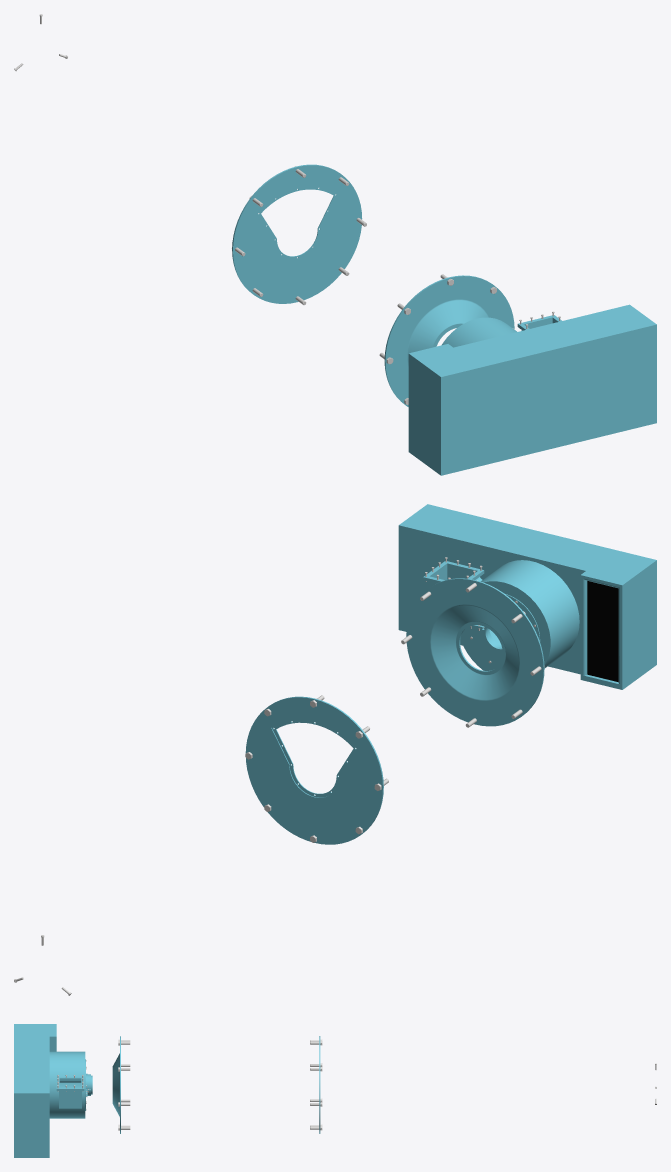
3 renders of one model, top to bottom at view 1: azimuth 30°, elevation 25°; view 2: azimuth 150°, elevation 25°; view 3: azimuth 270°, elevation 25°, orthographic. The views are drawn at different scales.
Visible parts, largest first — view 1: assembly full_cover belakang motor, assembly full_cover motor_MIR.001, assembly full_cover motor belakang.001; view 2: assembly full_cover belakang motor, assembly full_cover motor belakang.001, assembly full_cover motor_MIR.001, assembly full_tutup cover belakang_1; view 3: assembly full_cover belakang motor, assembly full_cover motor belakang.001.
Boxes of the visible parts, x1,y1,x2,y2 form: assembly full_cover belakang motor: (408, 304, 656, 475); assembly full_cover motor_MIR.001: (232, 164, 362, 303); assembly full_cover motor belakang.001: (384, 275, 514, 406); assembly full_cover belakang motor: (398, 504, 656, 689); assembly full_cover motor belakang.001: (406, 578, 544, 726); assembly full_cover motor_MIR.001: (245, 696, 383, 844); assembly full_tutup cover belakang_1: (467, 625, 540, 667); assembly full_cover belakang motor: (14, 1024, 85, 1157); assembly full_cover motor belakang.001: (112, 1036, 120, 1133).
Size of the model in its own units: 6881 by 4121 by 27041.
